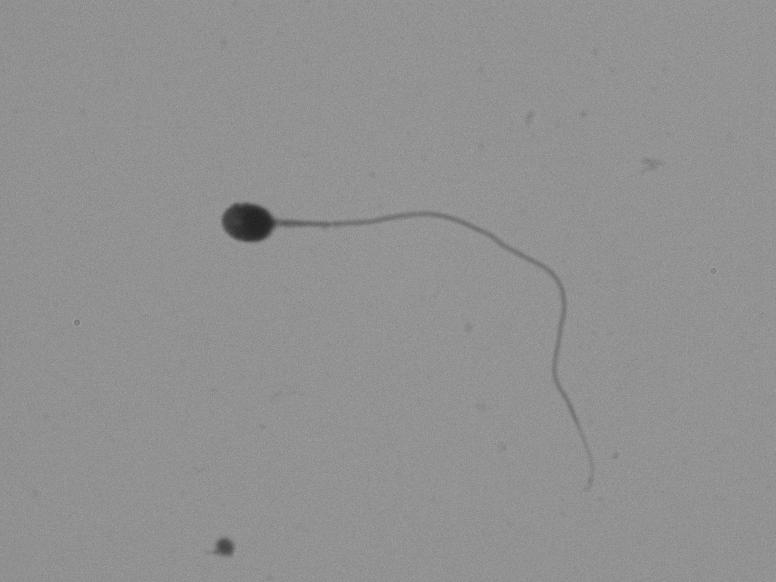Normal: (163, 160, 624, 395)
